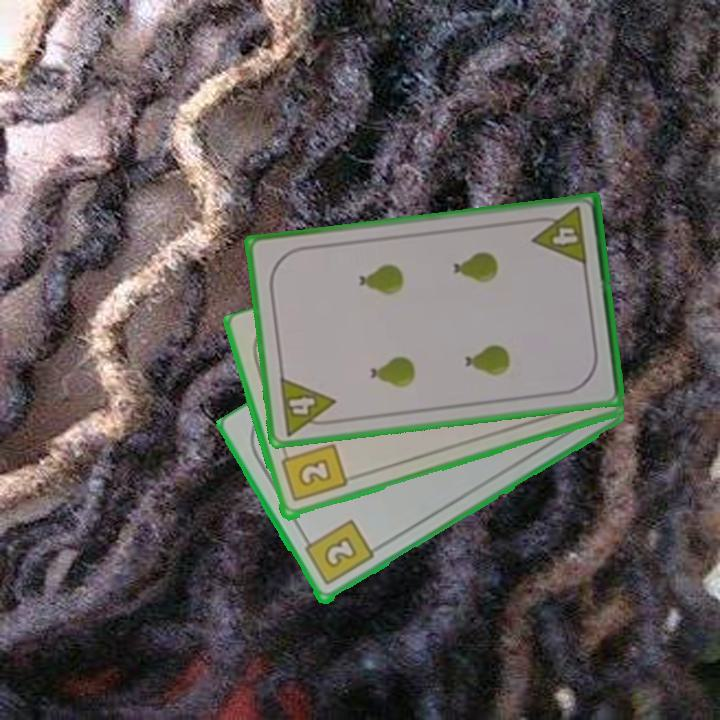2b: (299, 516, 376, 589), (277, 440, 349, 505)
4p: (276, 373, 340, 439), (527, 204, 590, 269)
